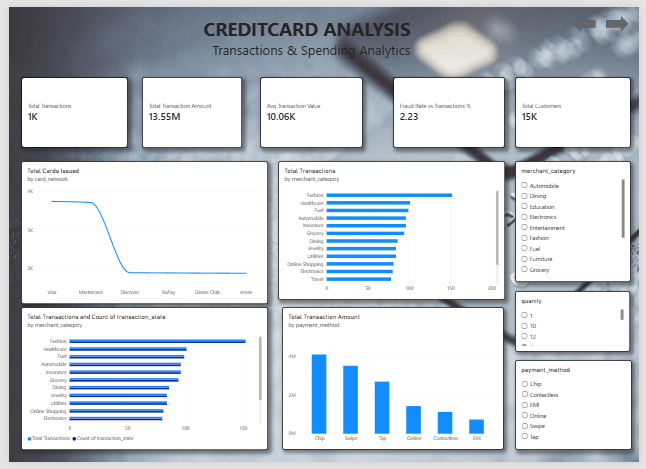

The dashboard page shown, as its layout file describes it:
{"tool":"powerbi","page":{"name":"Transaction","canvas":[1800,1300],"ordinal":1},"visuals":[{"type":"textbox","box":[380,25,957.5,135],"z":0},{"type":"cardVisual","fields":{"Data":["transaction_details_clean.Total Transactions"]},"box":[34.3,200,305.7,202.9],"z":1000},{"type":"cardVisual","fields":{"Data":["transaction_details_clean.Total Transaction Amount"]},"box":[380,200,285.7,202.9],"z":2000},{"type":"cardVisual","fields":{"Data":["transaction_details_clean.Avg Transaction Value"]},"box":[717.1,200,294.3,202.9],"z":3000},{"type":"cardVisual","fields":{"Data":["customer_details_clean.Total Customers"]},"box":[1445.7,200,331.4,202.9],"z":4000},{"type":"cardVisual","fields":{"Data":["fraud_flags_clean.Fraud Rate vs Transactions %"]},"box":[1097.1,200,320,202.9],"z":5000},{"type":"lineChart","fields":{"Category":["card_quality_details_clean.card_network"],"Y":["card_quality_details_clean.Total Cards Issued"]},"box":[34.3,440,705.7,408.6],"z":6000},{"type":"clusteredBarChart","fields":{"Y":["transaction_details_clean.Total Transactions"],"Category":["transaction_details_clean.merchant_category"]},"box":[768.6,440,648.6,397.1],"z":7000},{"type":"clusteredBarChart","fields":{"Y":["transaction_details_clean.Total Transactions","CountNonNull(transaction_details_clean.transaction_state)"],"Category":["transaction_details_clean.merchant_category"]},"box":[34.3,857.1,705.7,408.6],"z":8000},{"type":"columnChart","fields":{"Category":["transaction_details_clean.payment_method"],"Y":["transaction_details_clean.Total Transaction Amount"]},"box":[780,857.1,634,408],"z":9000},{"type":"listSlicer","fields":{"Values":["transaction_details_clean.merchant_category"]},"box":[1445.7,440,331.4,345.7],"z":10000},{"type":"listSlicer","fields":{"Values":["transaction_details_clean.payment_method"]},"box":[1445.7,1008.6,334.3,257.1],"z":11000},{"type":"listSlicer","fields":{"Values":["transaction_details_clean.quanity"]},"box":[1445.7,811.4,328.6,174.3],"z":12000},{"type":"shape","title":"Arrow","box":[1705,25,65,45],"z":13000},{"type":"shape","box":[1612.5,25,65,45],"z":14000}]}

Visuals, with their boxes in screenshot pixels (x1, y1, x2, y2), scaled from the page's 1800x1300 canvas onto the 646x469 screenshot:
textbox: detection(136, 9, 480, 58)
cardVisual - transaction_details_clean.Total Transactions: detection(12, 72, 122, 145)
cardVisual - transaction_details_clean.Total Transaction Amount: detection(136, 72, 239, 145)
cardVisual - transaction_details_clean.Avg Transaction Value: detection(257, 72, 363, 145)
cardVisual - customer_details_clean.Total Customers: detection(519, 72, 638, 145)
cardVisual - fraud_flags_clean.Fraud Rate vs Transactions %: detection(394, 72, 509, 145)
lineChart - card_quality_details_clean.card_network x card_quality_details_clean.Total Cards Issued: detection(12, 159, 266, 306)
clusteredBarChart - transaction_details_clean.Total Transactions x transaction_details_clean.merchant_category: detection(276, 159, 509, 302)
clusteredBarChart - transaction_details_clean.Total Transactions x CountNonNull(transaction_details_clean.transaction_state): detection(12, 309, 266, 457)
columnChart - transaction_details_clean.payment_method x transaction_details_clean.Total Transaction Amount: detection(280, 309, 507, 456)
listSlicer - transaction_details_clean.merchant_category: detection(519, 159, 638, 283)
listSlicer - transaction_details_clean.payment_method: detection(519, 364, 639, 457)
listSlicer - transaction_details_clean.quanity: detection(519, 293, 637, 356)
"Arrow" shape: detection(612, 9, 635, 25)
shape: detection(579, 9, 602, 25)
